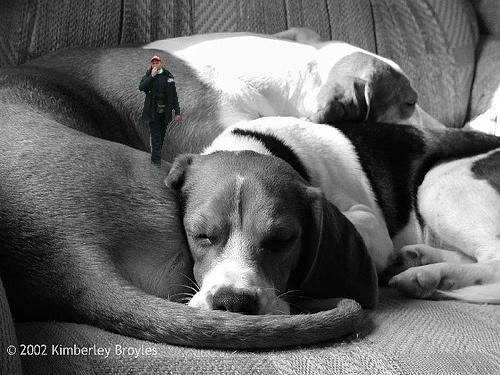tampered: (140, 56, 180, 168)
